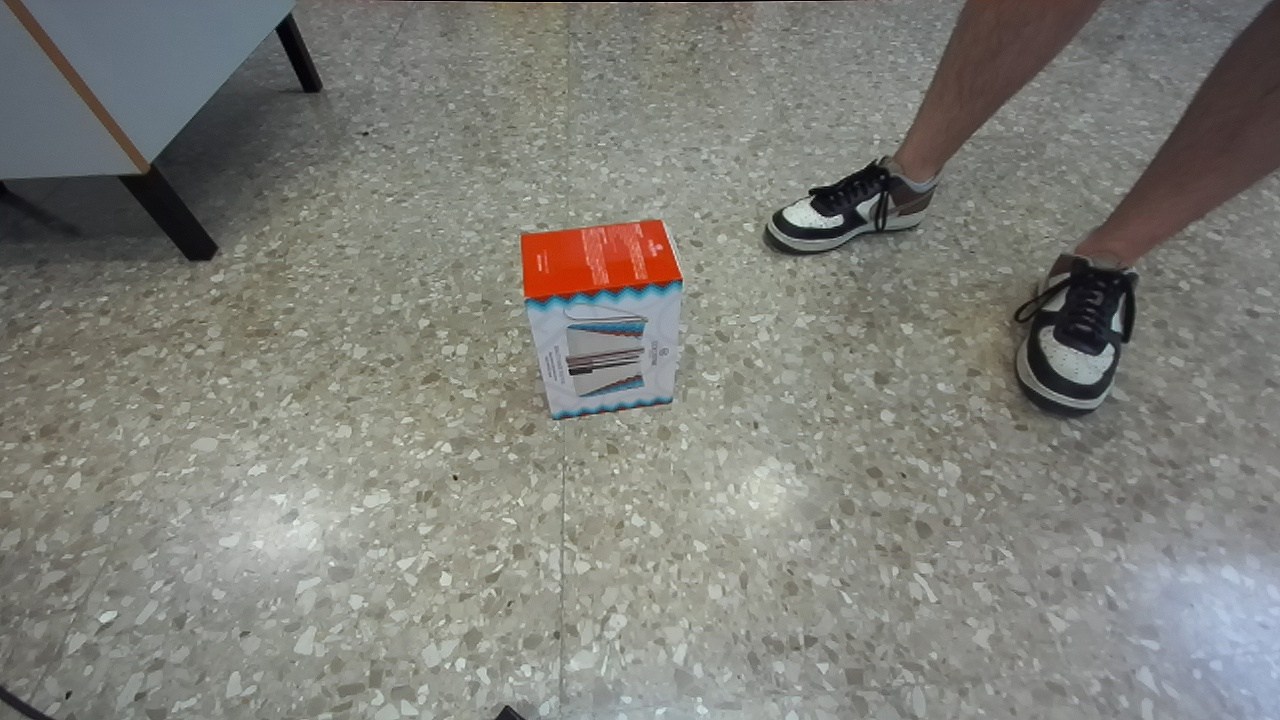caja_busbar: (521, 219, 683, 418)
